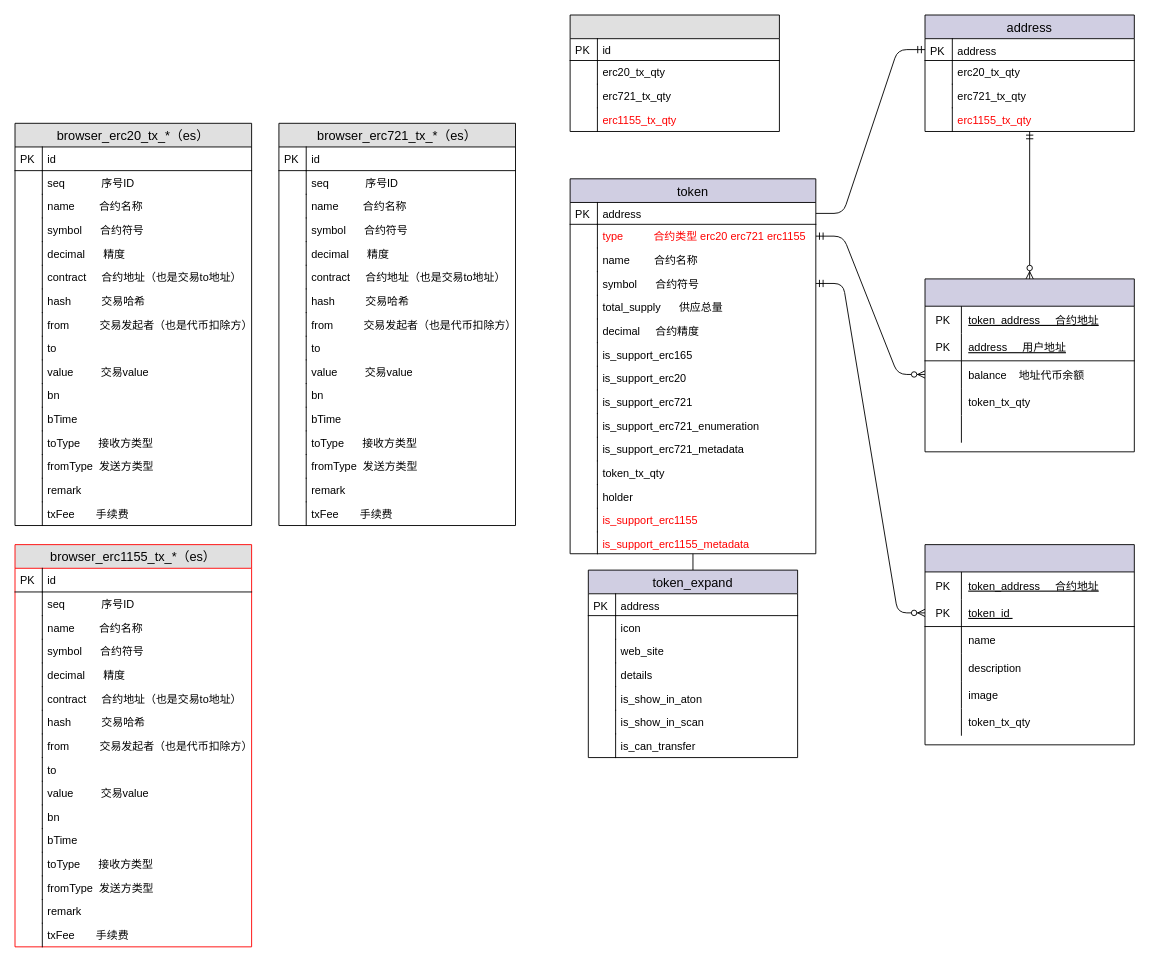
This 1149x962 diagram has some shape labels left out. Each missing label, with the box of its shape:
network_stat: (569, 14, 779, 131)
token_holder: (924, 278, 1134, 452)
token_inventory: (924, 544, 1134, 745)
